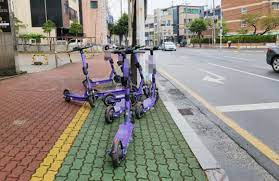kick_board: (63, 46, 95, 108)
kick_body: (112, 123, 133, 145)
kick_handler: (112, 49, 146, 58), (68, 46, 94, 52)
kick_wheel: (109, 142, 124, 164), (105, 106, 115, 122), (62, 90, 70, 101)
